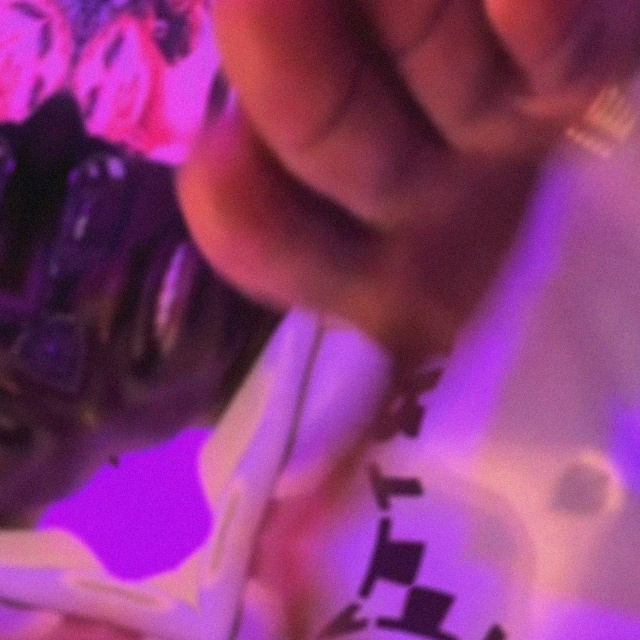Paper: (0, 0, 573, 96)
